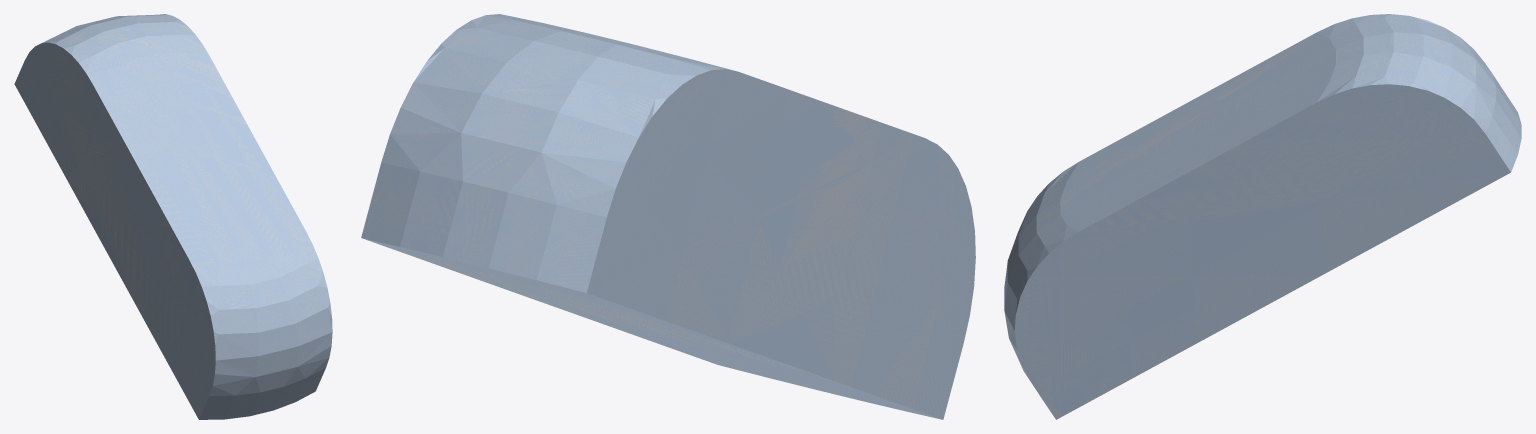
Rendered from original-37.obj.
3 renders of one model, left to right at view 1: azimuth 30°, elevation 25°; view 2: azimuth 150°, elevation 25°; view 3: azimuth 270°, elevation 25°, orthographic. The views are drawn at different scales.
Visible parts, largest first — view 1: Group_12/mesh41/mesh41-geometry#mesh41-geometry; view 2: Group_12/mesh41/mesh41-geometry#mesh41-geometry; view 3: Group_12/mesh41/mesh41-geometry#mesh41-geometry.
Part boxes in pixels (x1,y1,x2,y2): Group_12/mesh41/mesh41-geometry#mesh41-geometry: (14,14,332,419); Group_12/mesh41/mesh41-geometry#mesh41-geometry: (361,14,975,419); Group_12/mesh41/mesh41-geometry#mesh41-geometry: (1004,14,1521,419).
Bounding box in the file's own units: 0.0167 × 0.0386 × 0.0519.
